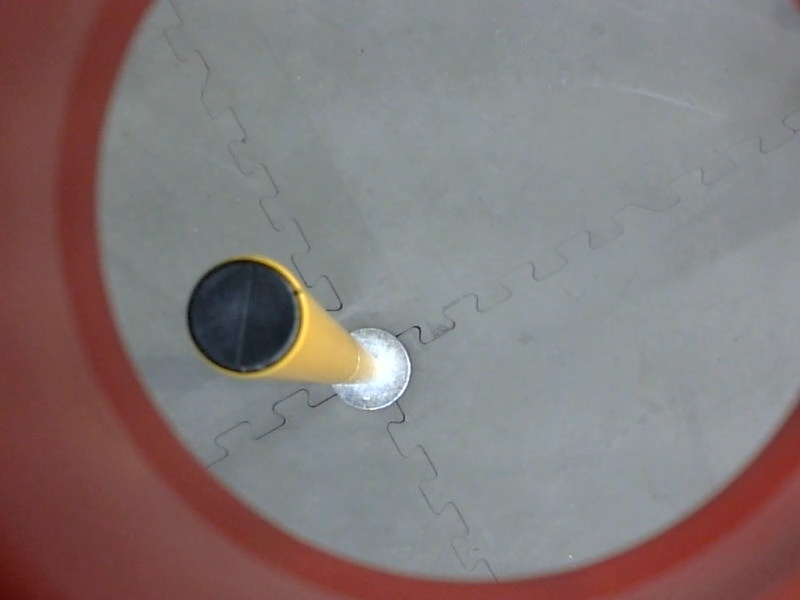tip: (176, 247, 311, 385)
